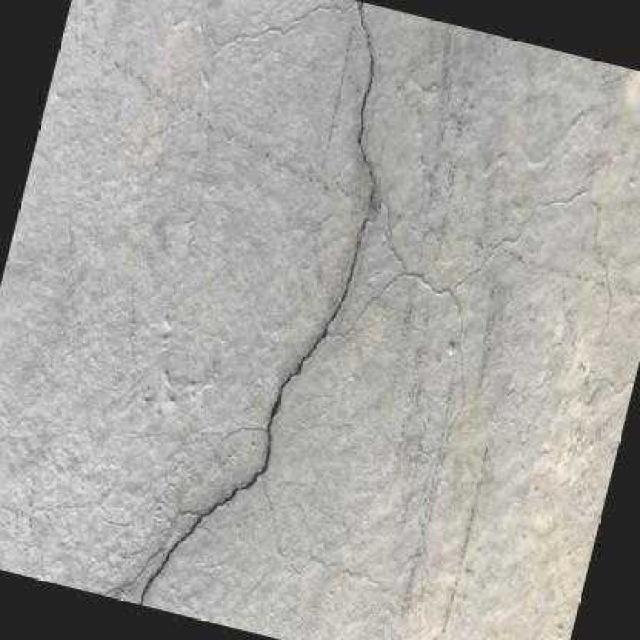D00: (137, 4, 378, 603)
